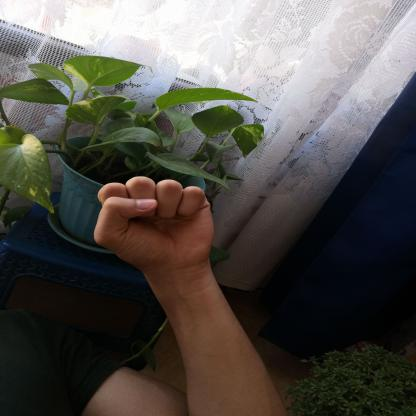SAD: (79, 164, 227, 280)
